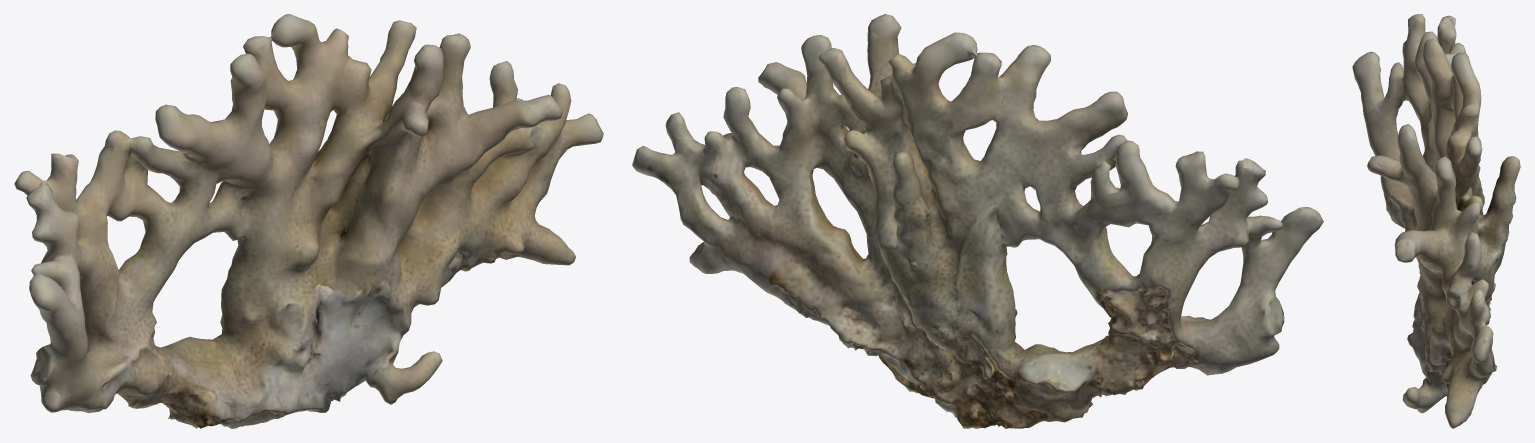
The model's file is madracis.glb.
3 renders of one model, left to right at view 1: azimuth 30°, elevation 25°; view 2: azimuth 150°, elevation 25°; view 3: azimuth 270°, elevation 25°, orthographic. The views are drawn at different scales.
Visible parts, largest first — view 1: mesh_0; view 2: mesh_0; view 3: mesh_0.
Boxes of the visible parts, x1,y1,x2,y2 form: mesh_0: (14, 14, 603, 428); mesh_0: (632, 14, 1323, 428); mesh_0: (1352, 14, 1520, 428).
Size of the model in its own units: 0.2329 by 0.1392 by 0.0635.
1 material, 1 textured.
